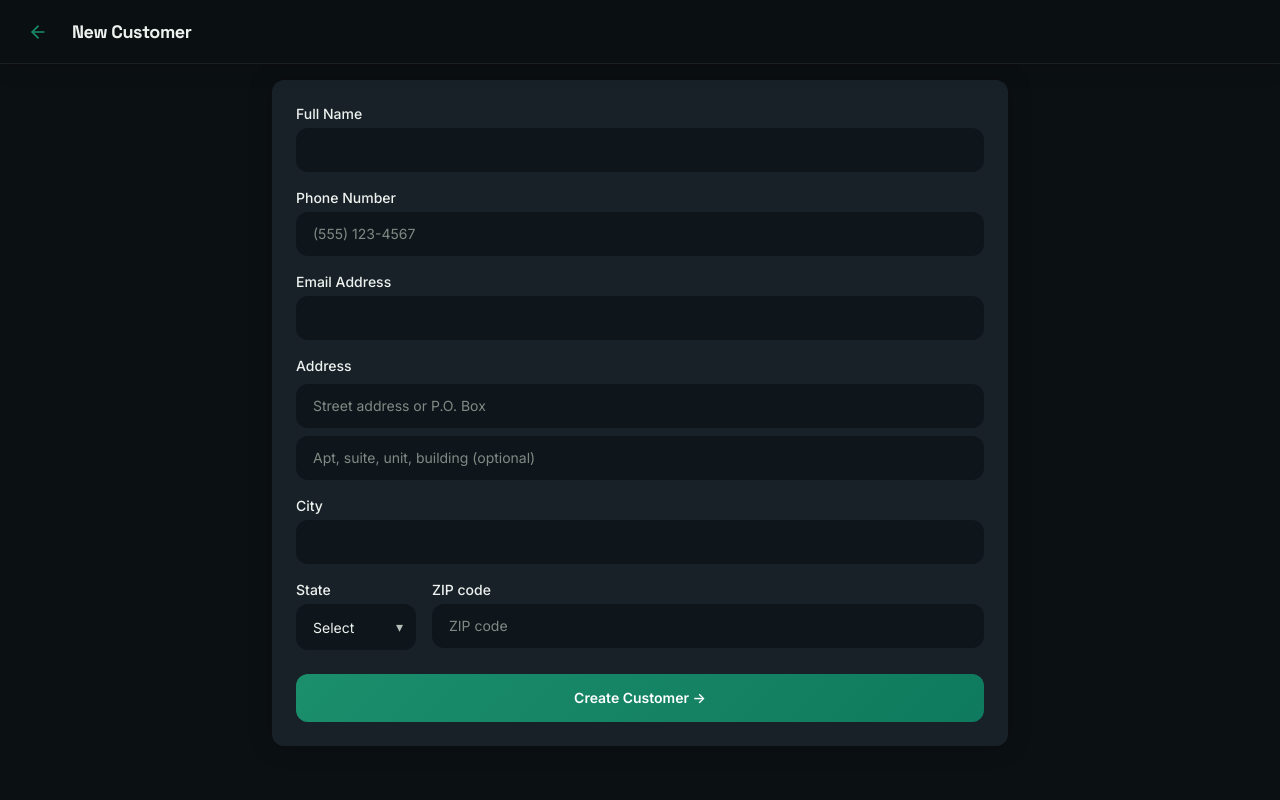
Test: CustomerCreateScreen › shows validation error when submitted with empty name
What coordinates should you click on to do the following:
click the button "Create Customer ->"
I would click on:
 (640, 698)
Its box is left=296, top=674, right=984, bottom=722.
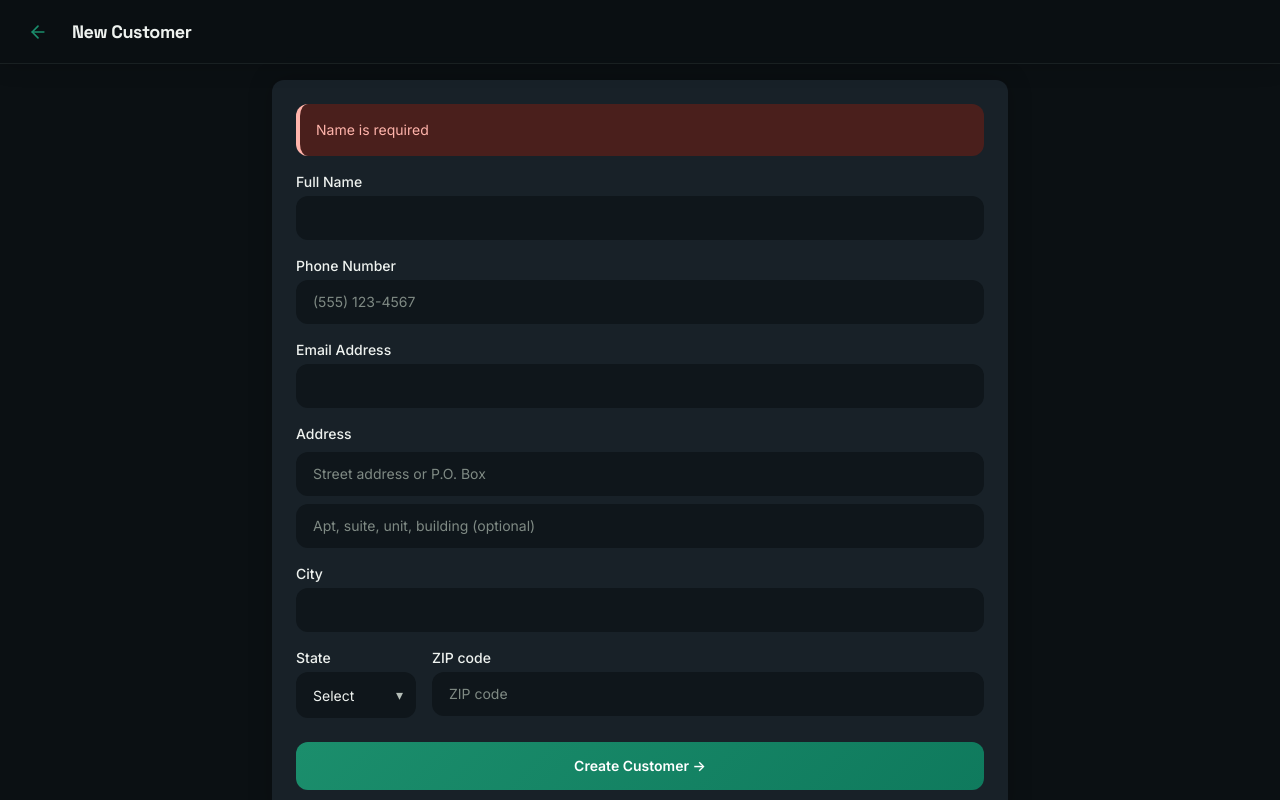
Result: the message reads "Name is required" at left=316, top=121, right=429, bottom=138
